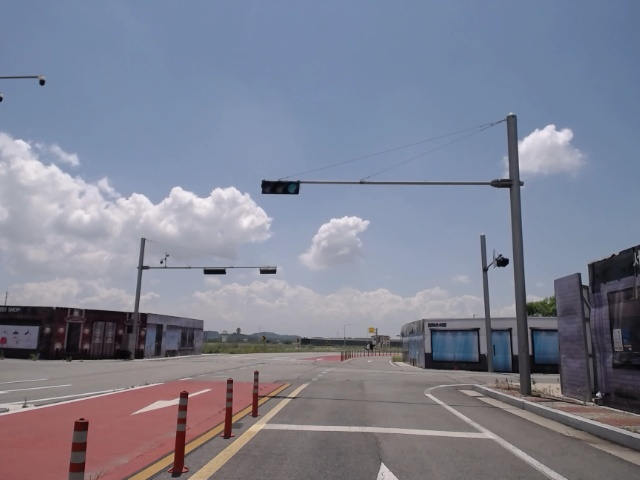green_3: (262, 181, 300, 193)
